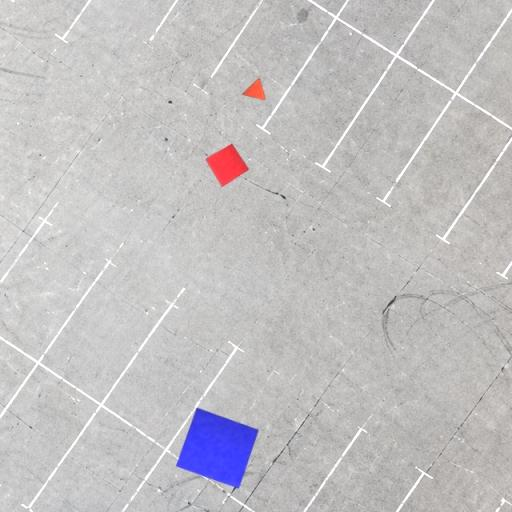BLUE_SQUARE: (175, 407, 260, 489)
RED_SQUARE: (204, 143, 250, 187)
